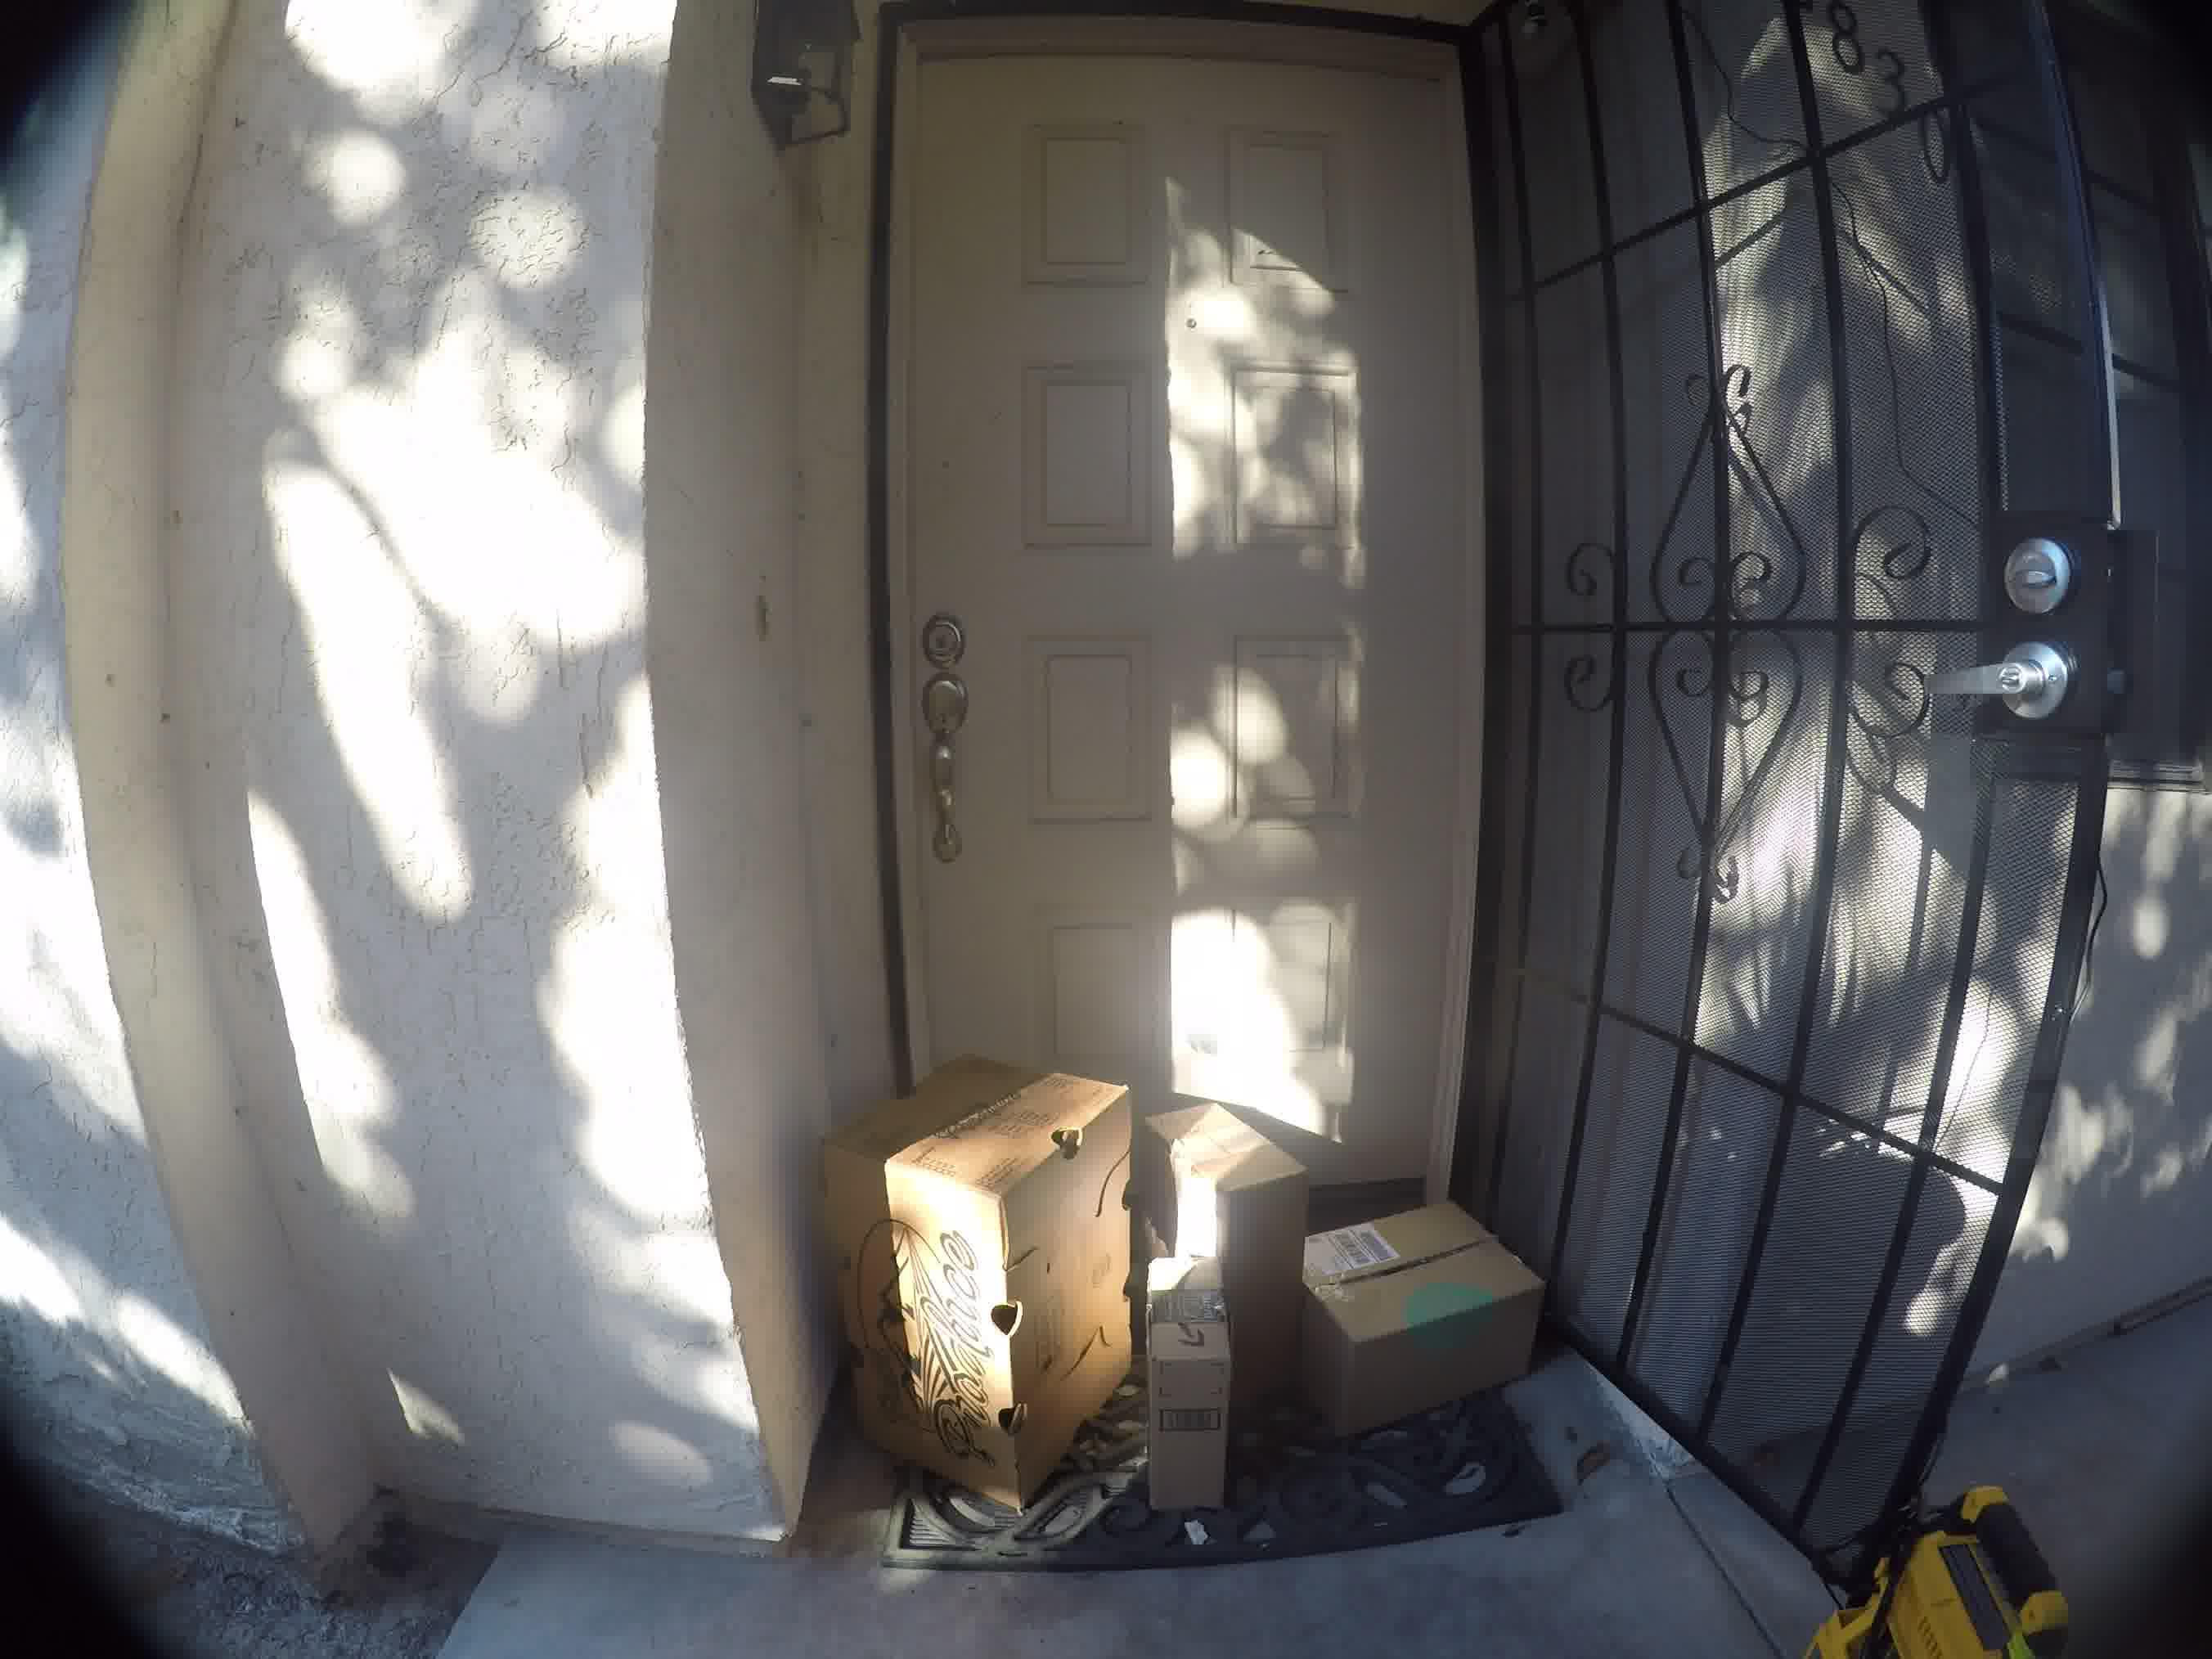box: (834, 1084, 1160, 1481), (1320, 1215, 1548, 1425), (1186, 1075, 1320, 1272), (1146, 1297, 1245, 1532)
